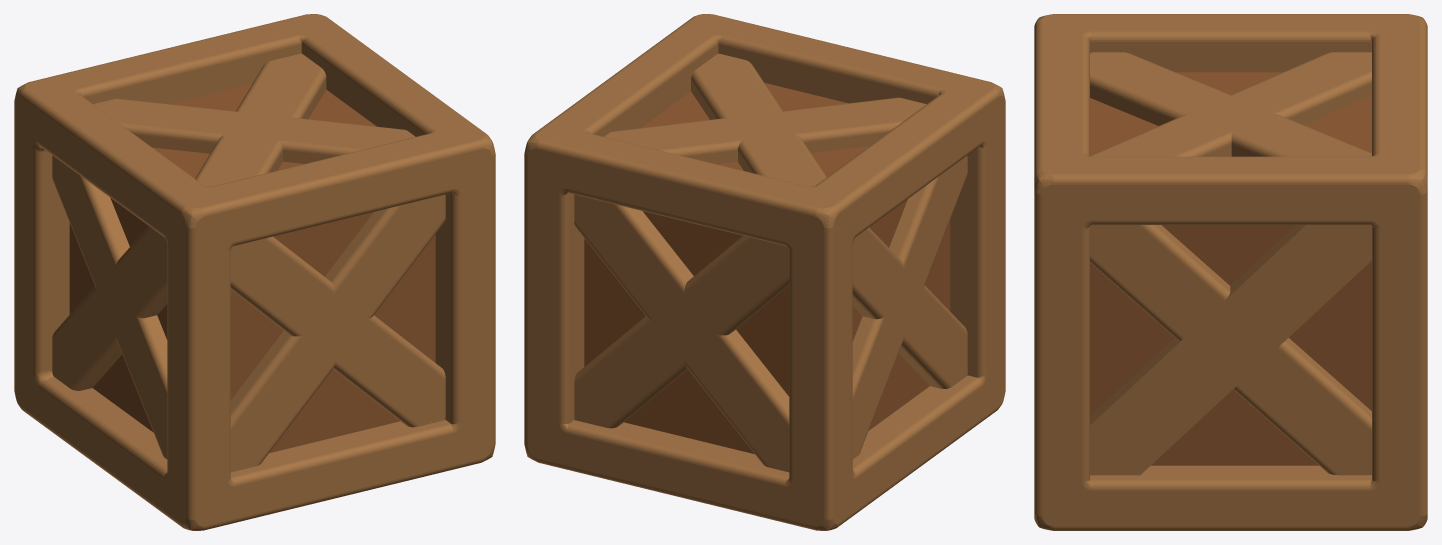
The model's file is Crate.fbx.
3 renders of one model, left to right at view 1: azimuth 30°, elevation 25°; view 2: azimuth 150°, elevation 25°; view 3: azimuth 270°, elevation 25°, orthographic. The views are drawn at different scales.
Parts seen in each view (by area): view 1: Crate; view 2: Crate; view 3: Crate.
Boxes of the visible parts, x1,y1,x2,y2 form: Crate: [14, 14, 495, 530]; Crate: [524, 14, 1005, 530]; Crate: [1034, 14, 1427, 530].
Size of the model in its own units: 2 by 2 by 2.
